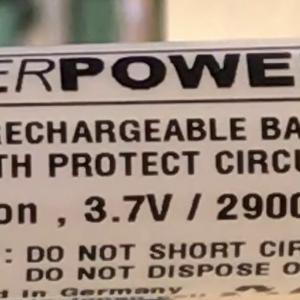3.7V: (74, 183, 183, 233)
